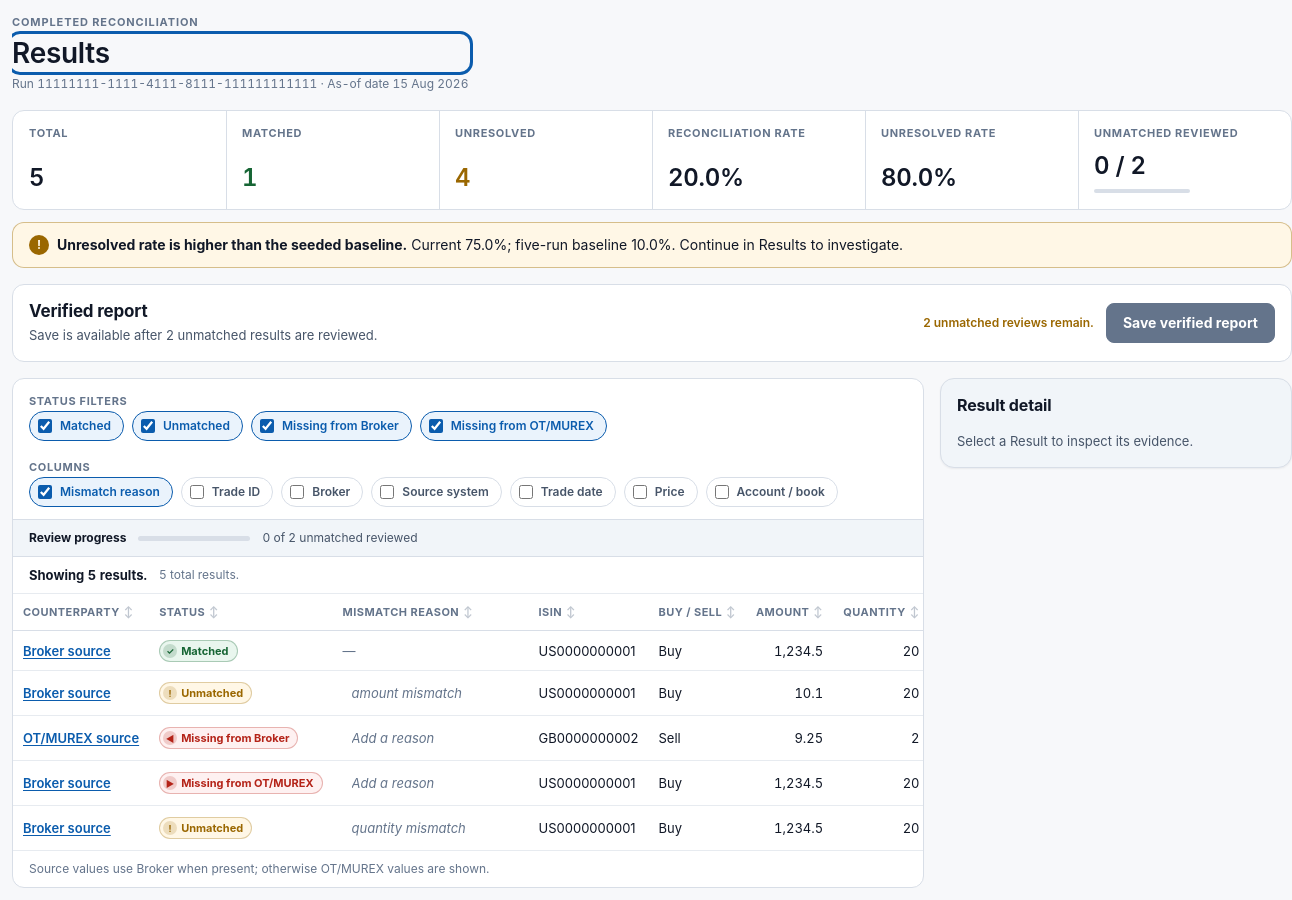
Scenario: Results workspace table › guards repeated activation, keeps late failures with their initiating result, and respects non-retryable typed failures
Click the button with aria-label "Select BRK-8": {"x": 67, "y": 693} [23,683,111,703]
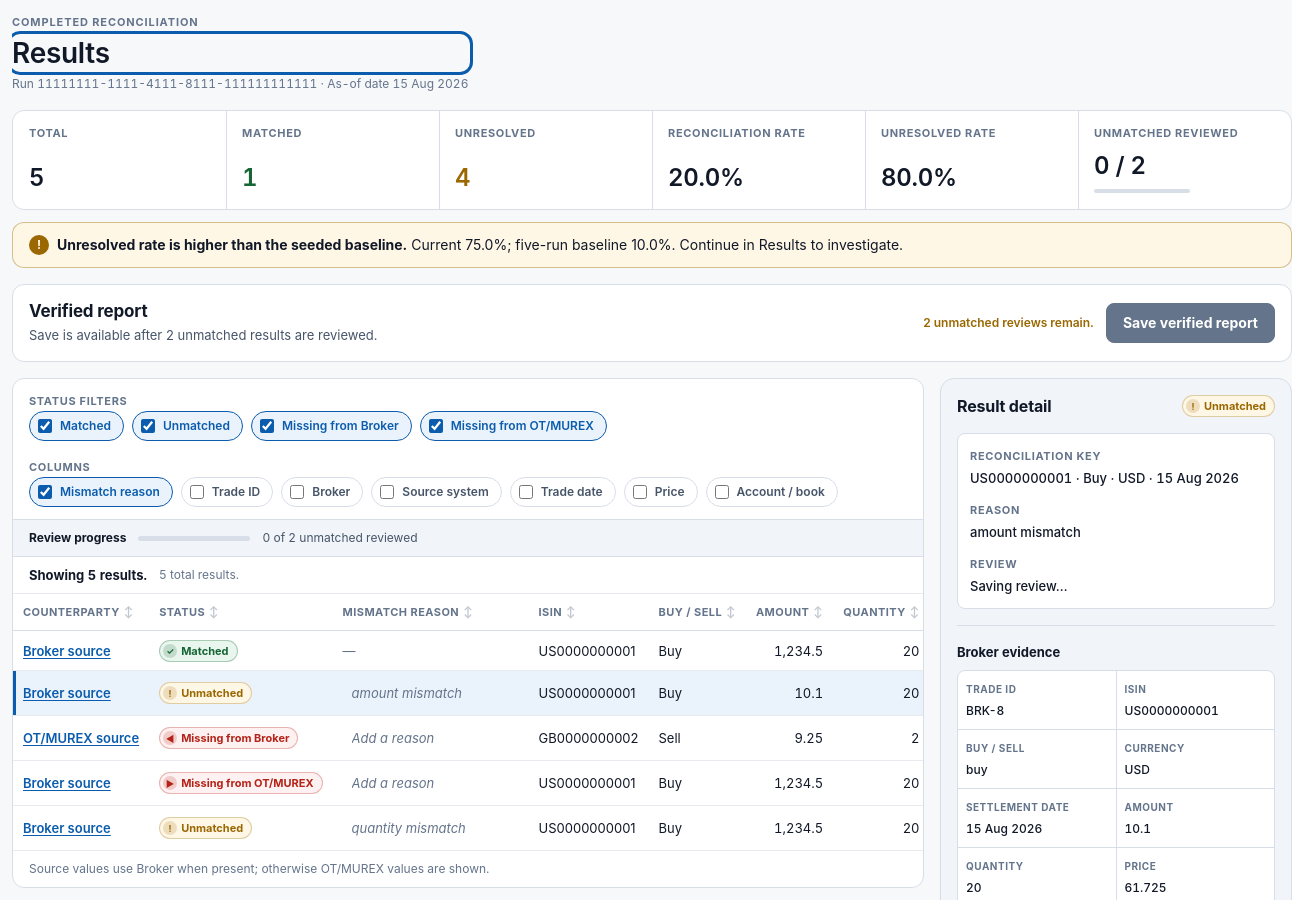
Click the button with aria-label "Select BRK-9": {"x": 67, "y": 828} [23,818,111,838]
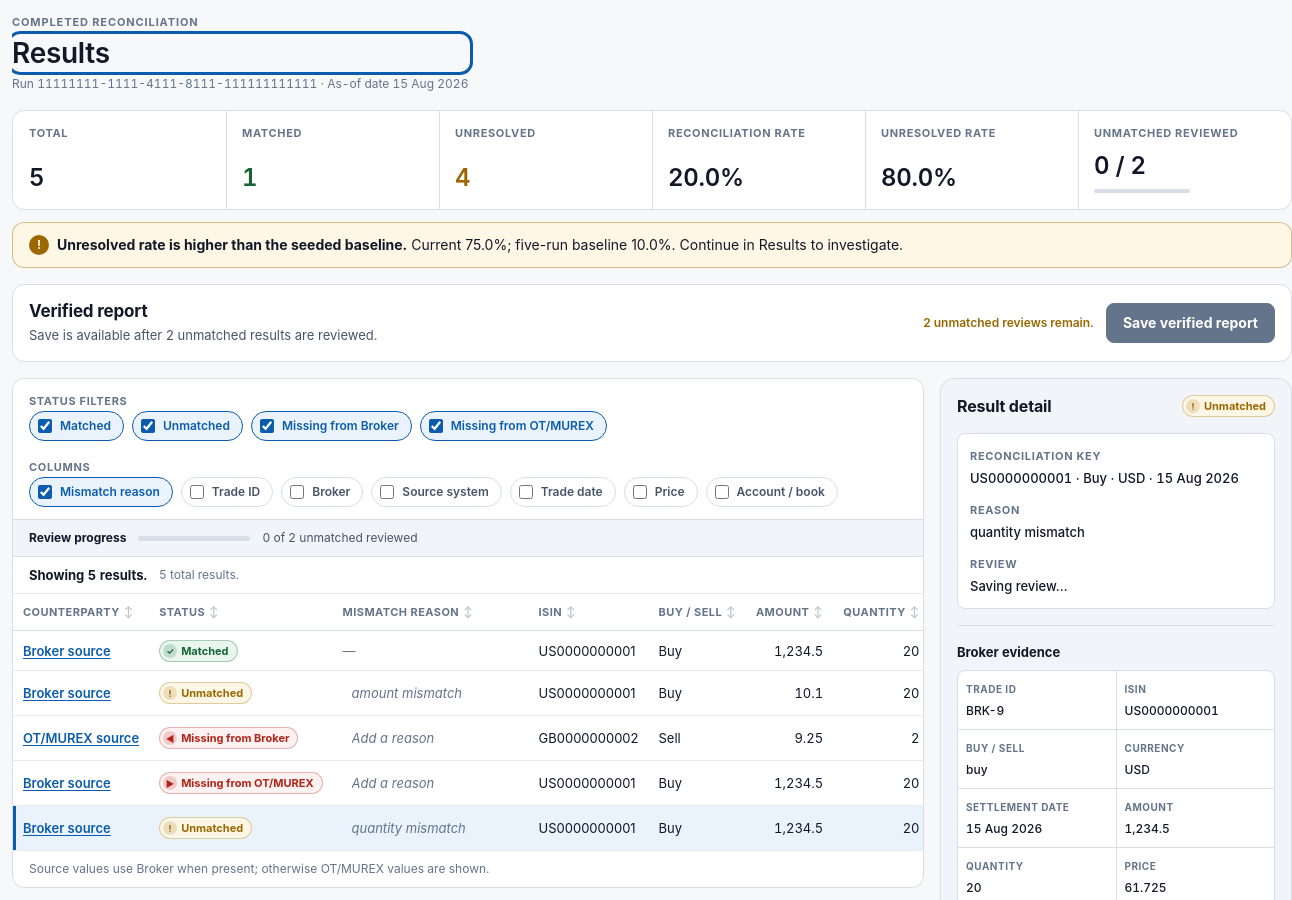
Click the button with aria-label "Selected BRK-9": {"x": 67, "y": 828} [23,818,111,838]
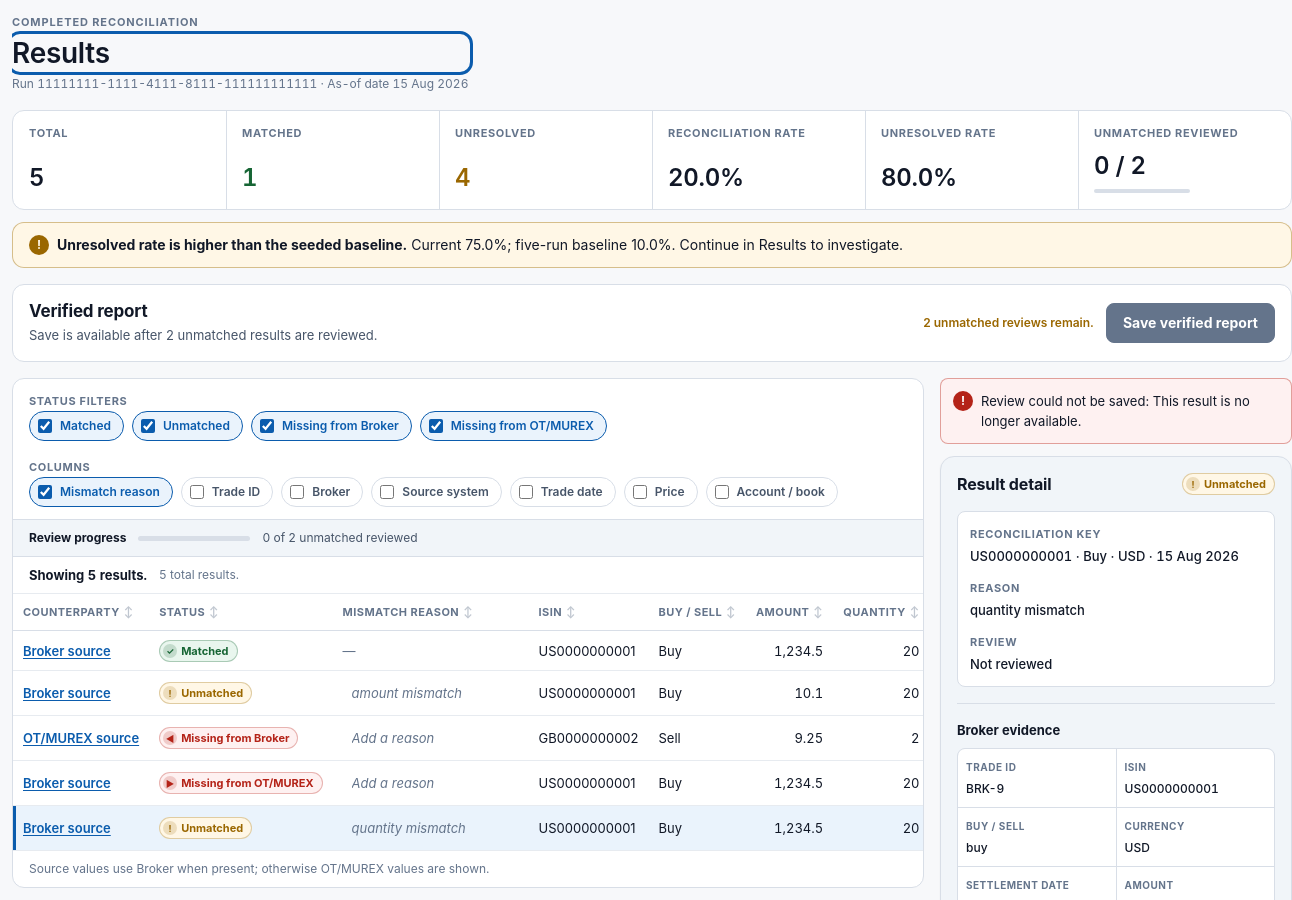
Now the message "Review could not be saved: This result is no longer available." is shown, box [940,378,1291,444]
